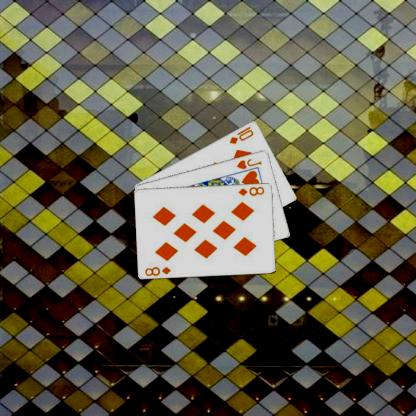10D: (227, 124, 255, 145)
8D: (236, 184, 266, 197), (142, 264, 172, 276)
JH: (234, 156, 263, 170)
